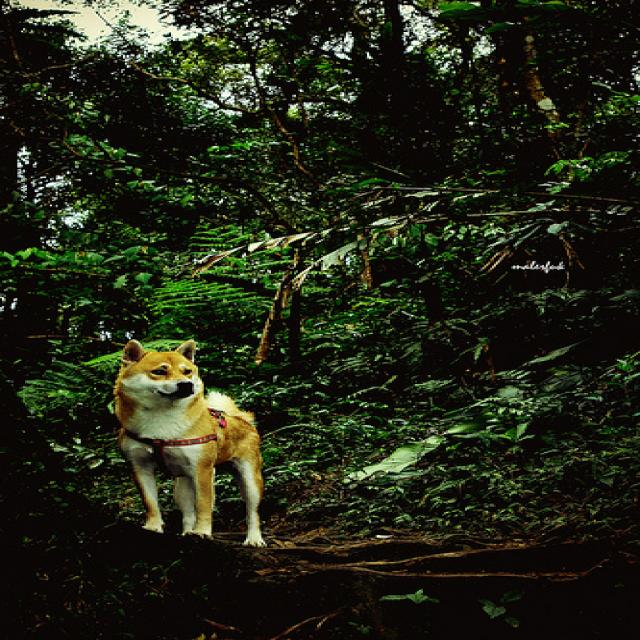dog-shiba_inu: (100, 329, 269, 553)
